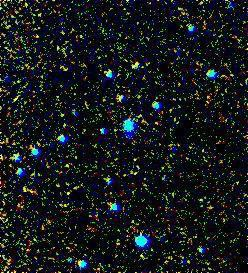star: (123, 51, 153, 81)
